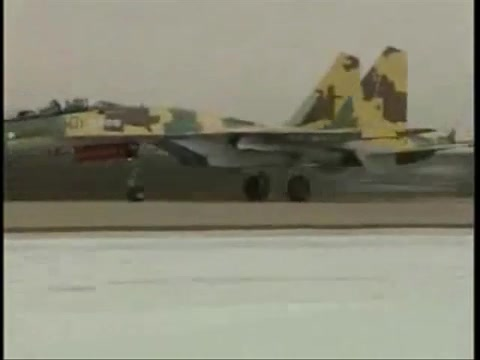aeroplane: (4, 47, 475, 203)
